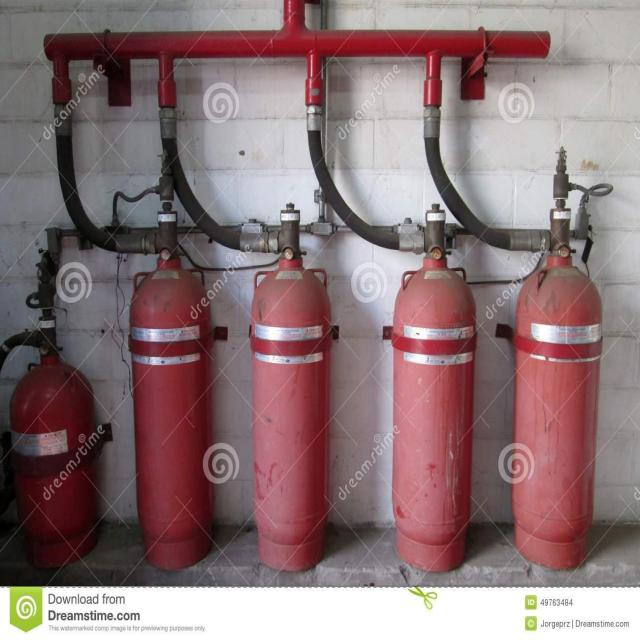fire_extinguisher: (498, 145, 615, 574), (388, 192, 484, 576), (127, 181, 216, 576), (247, 196, 334, 568), (0, 301, 107, 583)
